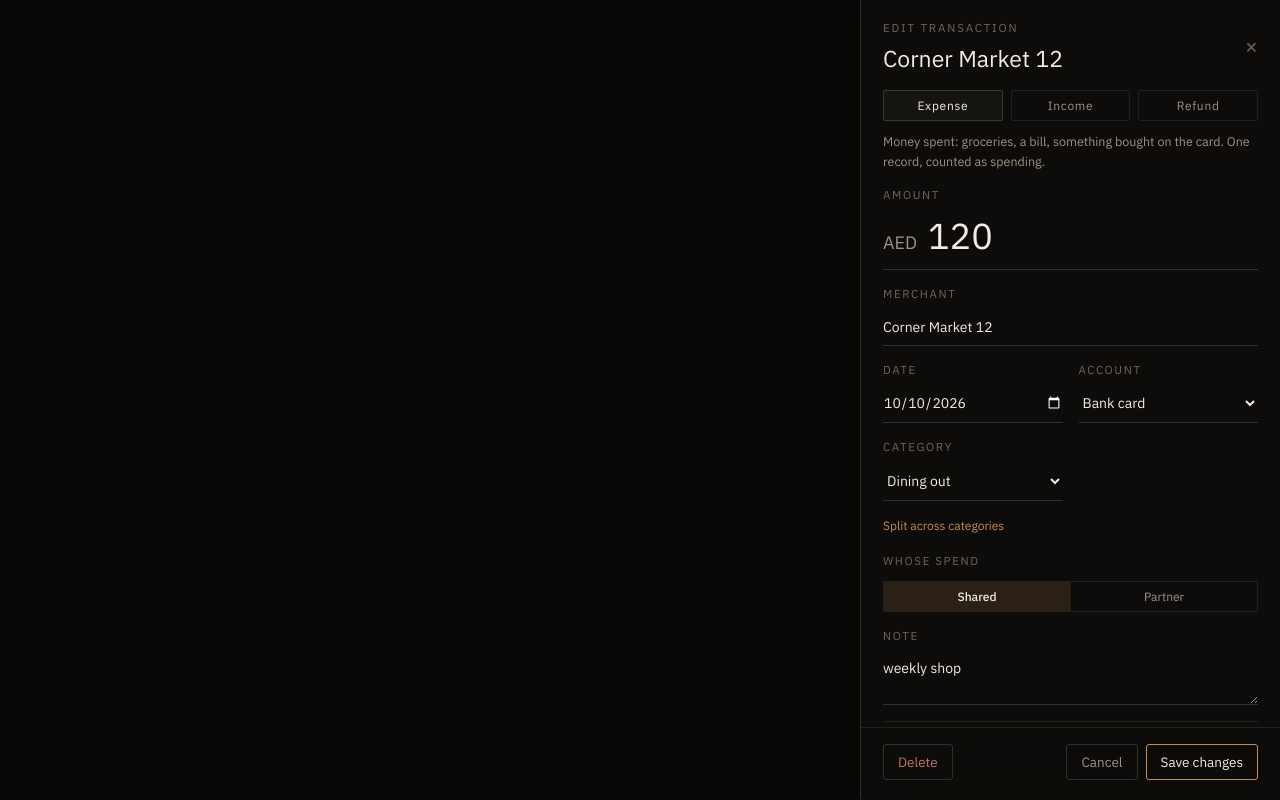
Remember this merchant: off › is offered, unticked, only once the category changes
This screenshot has width=1280, height=800.
Expected: the checkbox labelled "Remember this merchant" is not shown
Select "Groceries" in the dropdown showing "Dining out" below "Category" at [973, 482], box [883,462,1062,501]
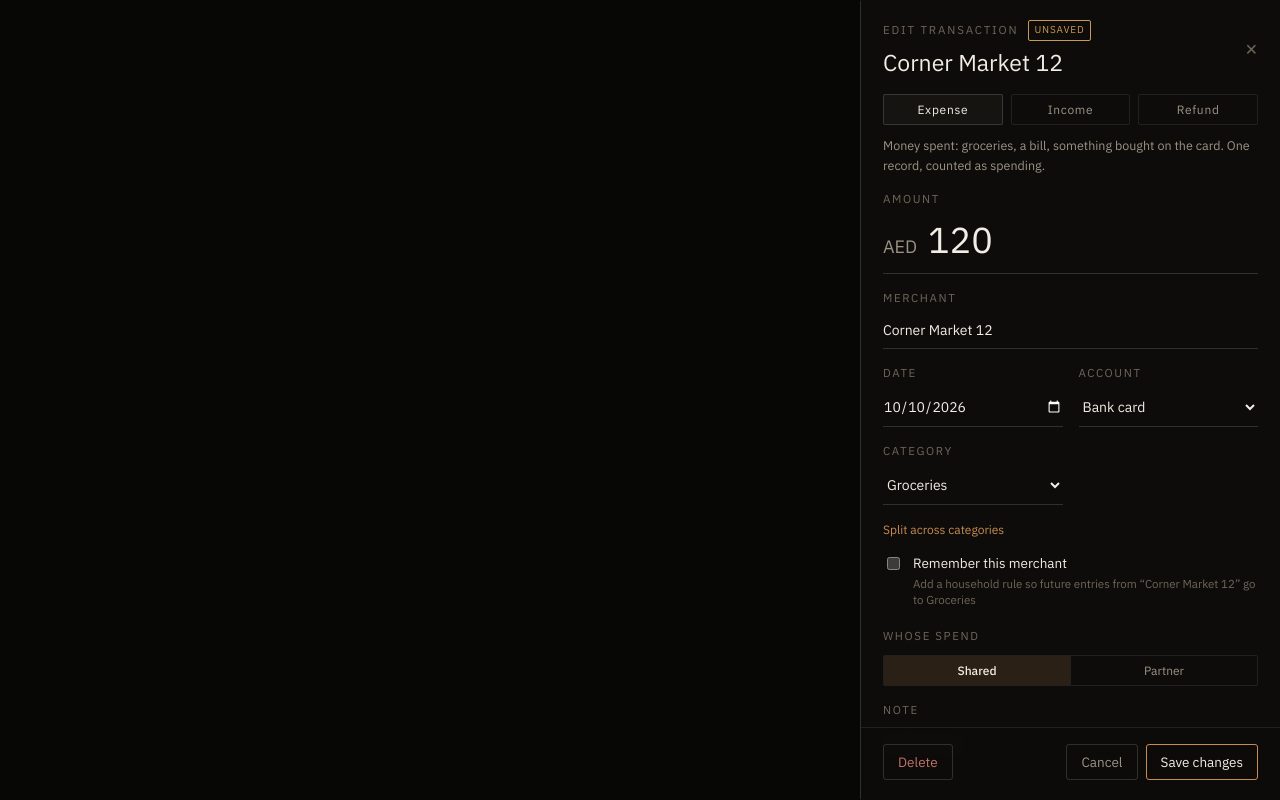
Expected: the checkbox labelled "Remember this merchant" is not checked, [887,557,900,570]
